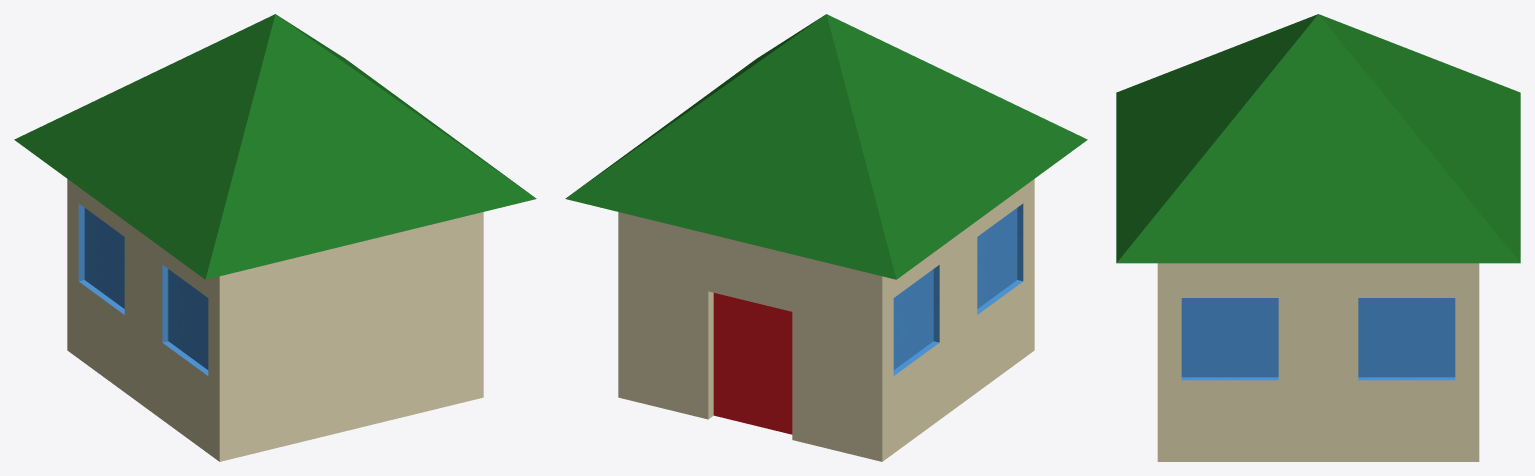
The model's file is house.glb.
The picture shows the model from 3 angles, left to right: view 1: azimuth 30°, elevation 25°; view 2: azimuth 150°, elevation 25°; view 3: azimuth 270°, elevation 25°; orthographic projection. The views are drawn at different scales.
Visible parts, largest first — view 1: object_1.001; view 2: object_1.001; view 3: object_1.001.
Part boxes in pixels (bbox=[...]): object_1.001: bbox=[14, 14, 536, 461]; object_1.001: bbox=[565, 14, 1087, 461]; object_1.001: bbox=[1116, 14, 1520, 461].
Bounding box in the file's own units: 12.67 × 13.15 × 12.67.
Materials: 1 (1 with a texture image).
